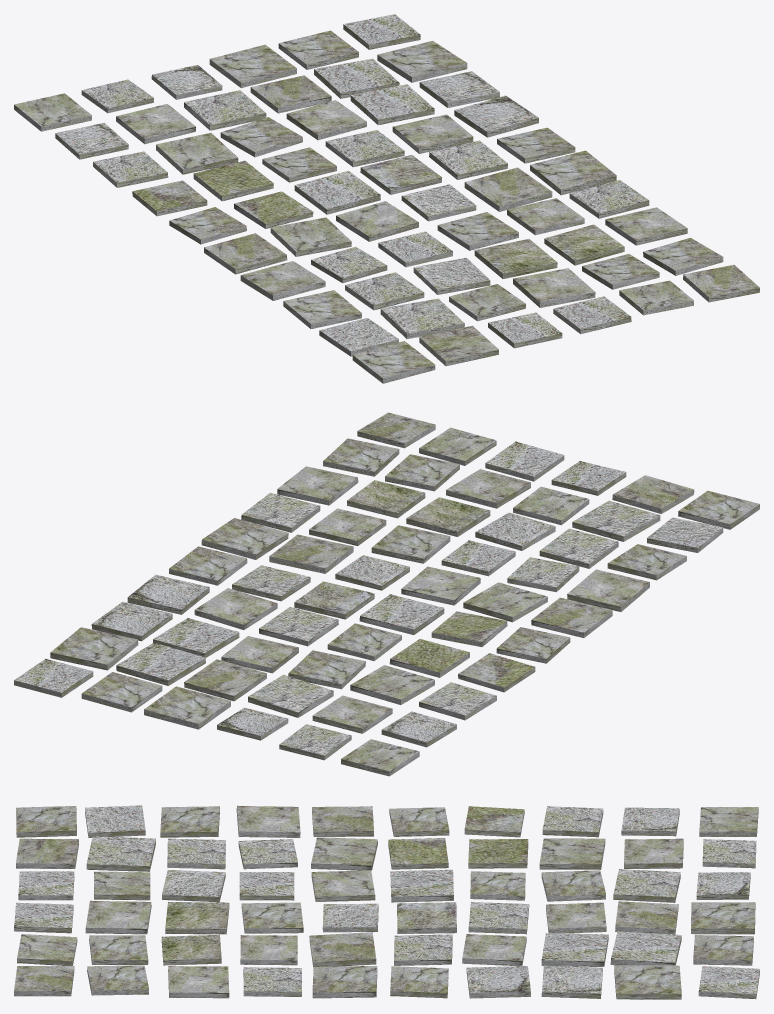
File: Cubes.fbx
3 renders of one model, top to bottom at view 1: azimuth 30°, elevation 25°; view 2: azimuth 150°, elevation 25°; view 3: azimuth 270°, elevation 25°, orthographic.
Visible parts, largest first — view 1: Cube.037, Cube.036, Cube.075, Cube.069, Cube.042, Cube.060, Cube.009, Cube.057, Cube, Cube.053, Cube.068, Cube.011 (+48 smaller); view 2: Cube.069, Cube.068, Cube.075, Cube.037, Cube.024, Cube.066, Cube.009, Cube.042, Cube.036, Cube.067, Cube.052, Cube.053 (+48 smaller); view 3: Cube.069, Cube.009, Cube.068, Cube.060, Cube.075, Cube.036, Cube.011, Cube.037, Cube.019, Cube.033, Cube.042, Cube.057 (+48 smaller).
Part boxes in pixels (x1,y1,x2,y2): Cube.037: [530, 150, 616, 195]; Cube.036: [464, 167, 552, 211]; Cube.075: [209, 44, 296, 88]; Cube.069: [377, 41, 467, 82]; Cube.042: [294, 170, 380, 214]; Cube.060: [350, 84, 434, 125]; Cube.009: [380, 298, 464, 338]; Cube.057: [156, 133, 238, 174]; Cube: [352, 341, 435, 383]; Cube.053: [454, 95, 538, 137]; Cube.068: [314, 58, 399, 98]; Cube.011: [513, 268, 595, 307]; Cube.069: [50, 627, 138, 670]; Cube.068: [116, 642, 205, 685]; Cube.075: [144, 686, 230, 729]; Cube.037: [201, 518, 288, 559]; Cube.024: [567, 569, 649, 611]; Cube.066: [248, 674, 333, 717]; Cube.009: [572, 500, 660, 541]; Cube.042: [359, 594, 444, 634]; Cube.036: [269, 534, 353, 573]; Cube.067: [184, 659, 266, 701]; Cube.052: [194, 588, 277, 629]; Cube.053: [127, 574, 209, 614]; Cube.069: [614, 965, 681, 999]; Cube.009: [86, 836, 155, 871]; Cube.068: [610, 931, 681, 965]; Cube.060: [541, 933, 608, 966]; Cube.075: [691, 902, 755, 934]; Cube.036: [309, 932, 376, 966]; Cube.011: [85, 900, 151, 934]; Cube.037: [312, 966, 377, 998]; Cube.019: [165, 902, 229, 934]; Cube.033: [311, 837, 377, 870]; Cube.042: [390, 869, 453, 902]; Cube.057: [539, 838, 605, 869].
Size of the model in its own units: 1525 by 31.57 by 2554.
